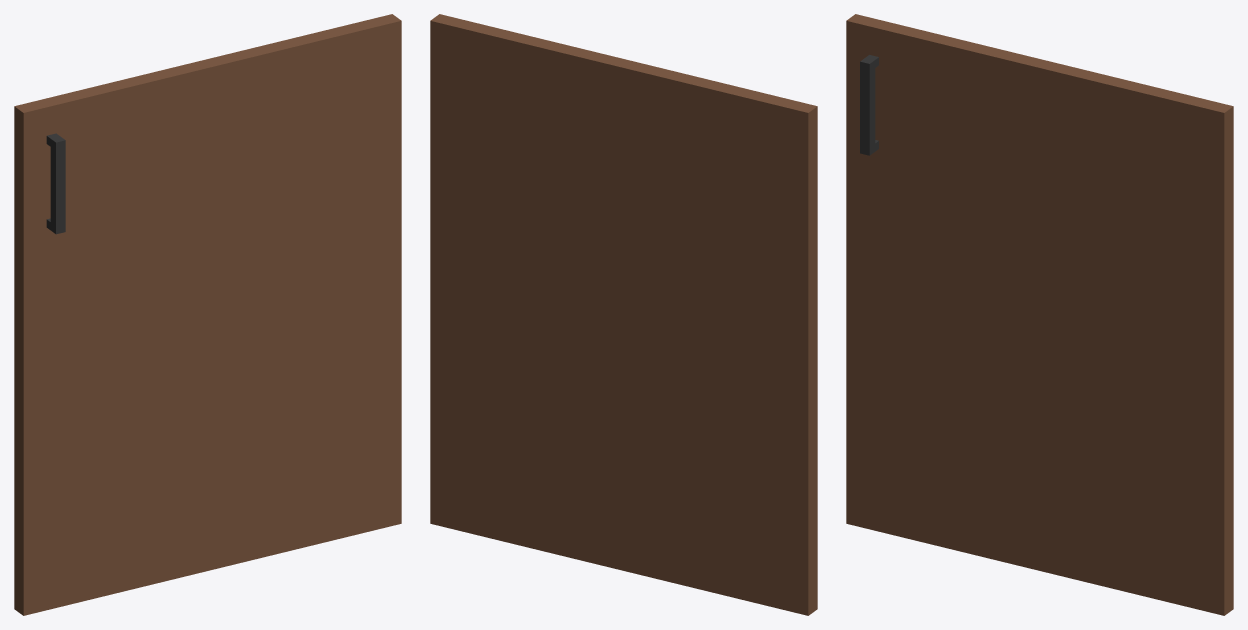
The model's file is Door1_C2_01.fbx.
3 views of the same model, side by side, from view 1: azimuth 30°, elevation 25°; view 2: azimuth 150°, elevation 25°; view 3: azimuth 330°, elevation 25° (orthographic).
Parts seen in each view (by area): view 1: Door1_C2_01; view 2: Door1_C2_01; view 3: Door1_C2_01.
Part boxes in pixels (x1,y1,x2,y2): Door1_C2_01: (14,14,401,615); Door1_C2_01: (430,14,817,615); Door1_C2_01: (846,14,1233,615).
Size of the model in its own units: 59 by 75 by 5.03.
